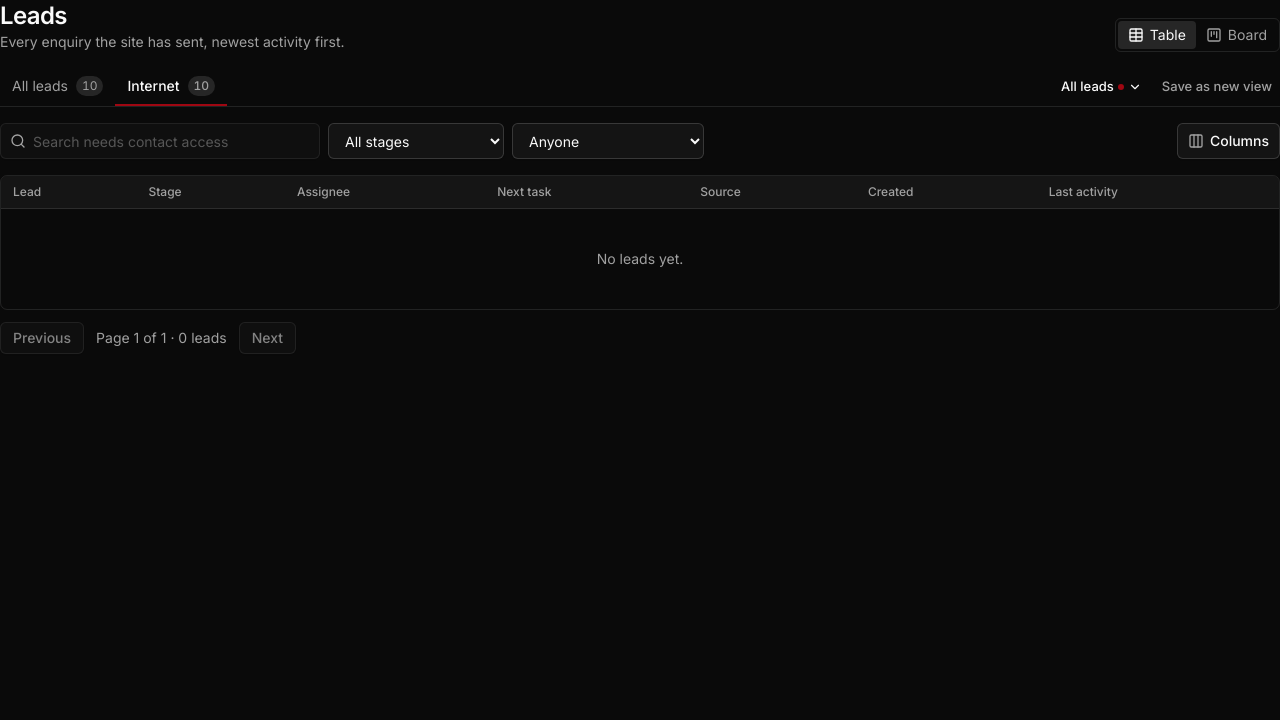
Test: LeadsInbox › hides filter, column and sort controls when access.contacts is false
Expected: the tab "Internet 10" is shown, x1=116 y1=68 x2=227 y2=106
What coordinates should you click on to do the following:
click the button "Columns"
I would click on:
 (1228, 141)
Its box is x1=1177 y1=123 x2=1279 y2=159.
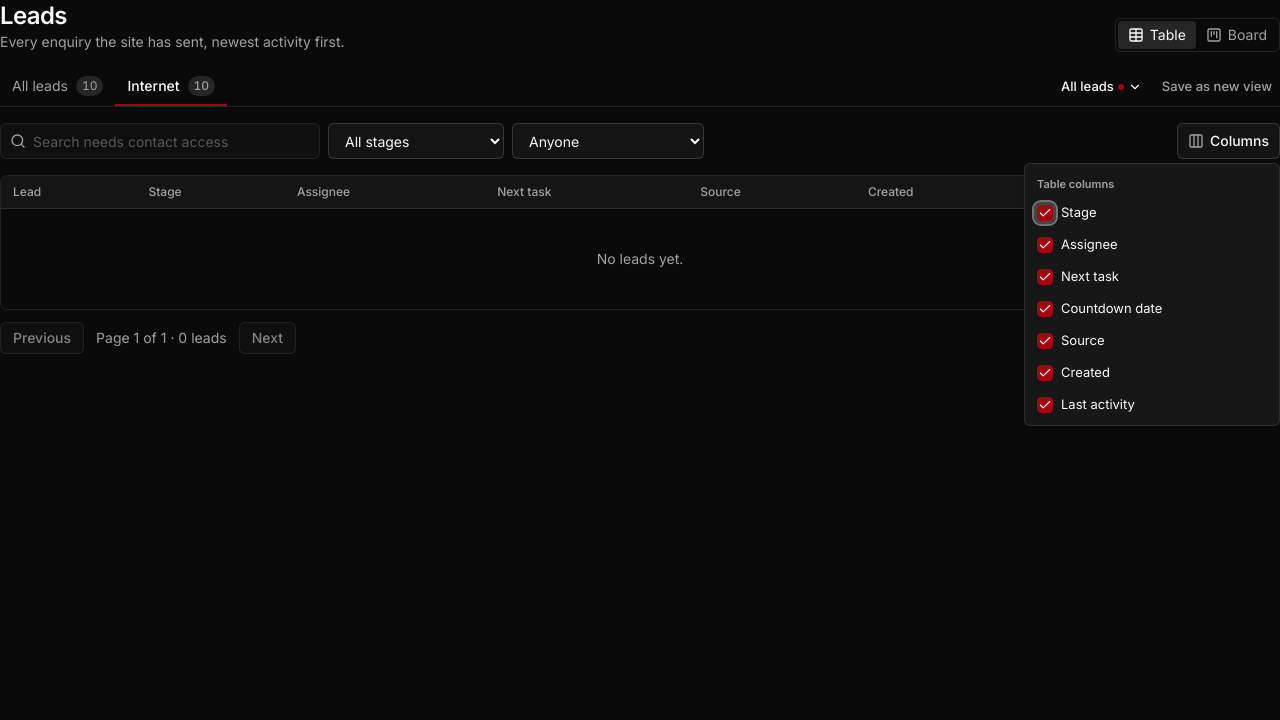
Expected: the 5th checkbox named "Source" is shown, x1=1037 y1=332 x2=1053 y2=348
